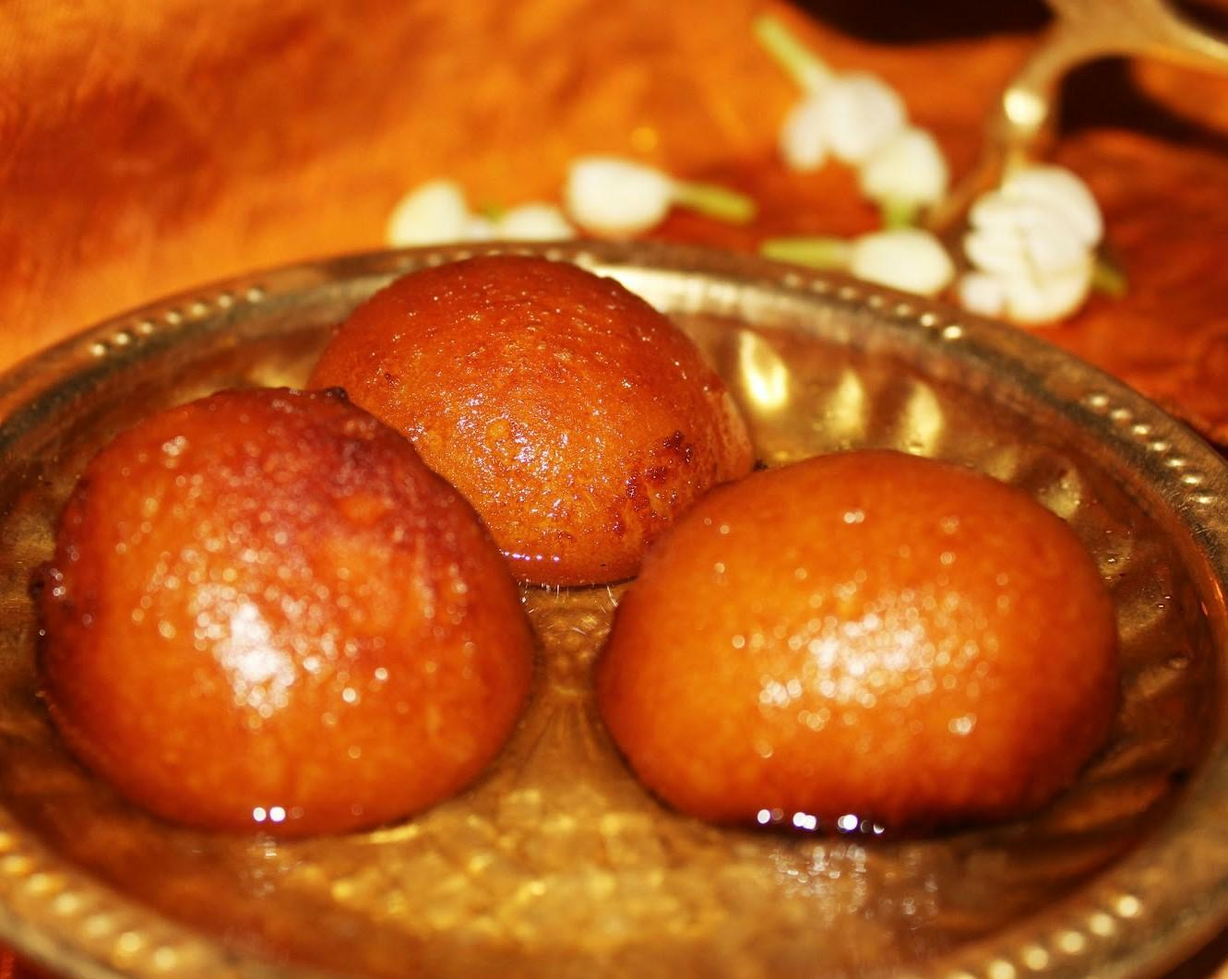GulabJamun: (39, 385, 536, 841), (586, 444, 1123, 834), (305, 256, 762, 608)
